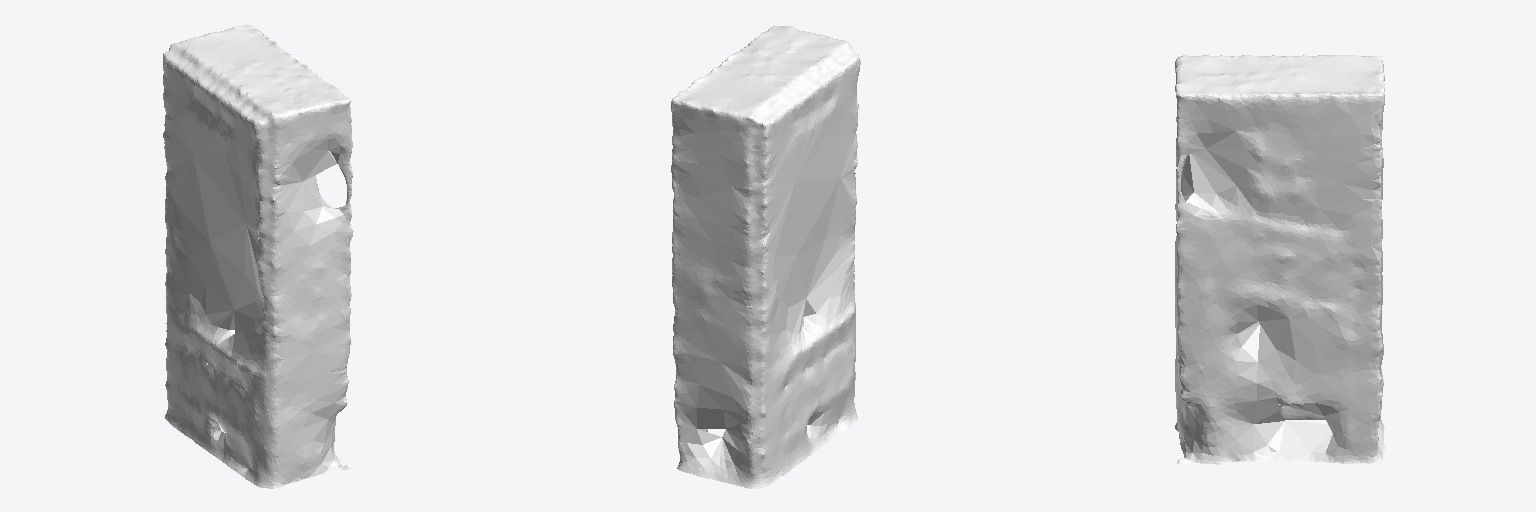
File: Scaniverse_2025_10_16_182402.obj
The picture shows the model from 3 angles: view 1: azimuth 30°, elevation 25°; view 2: azimuth 150°, elevation 25°; view 3: azimuth 270°, elevation 25°; orthographic projection.
Visible parts, largest first — view 1: mesh; view 2: mesh; view 3: mesh.
Boxes of the visible parts, box(x1,y1,x2,y2) form: mesh: box(163, 25, 353, 488); mesh: box(671, 26, 860, 488); mesh: box(1175, 55, 1384, 464).
Bounding box in the file's own units: 0.0431 × 0.1598 × 0.0819.